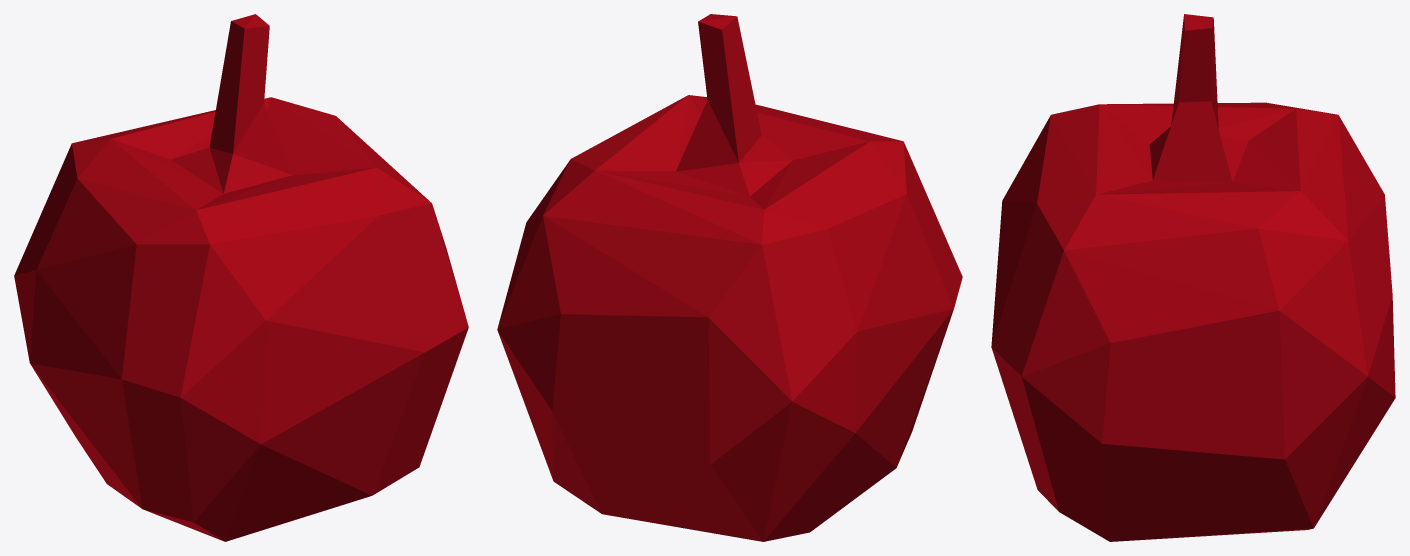
The model's file is Apple.fbx.
3 renders of one model, left to right at view 1: azimuth 30°, elevation 25°; view 2: azimuth 150°, elevation 25°; view 3: azimuth 270°, elevation 25°, orthographic. The views are drawn at different scales.
Visible parts, largest first — view 1: Cube.002; view 2: Cube.002; view 3: Cube.002.
Part boxes in pixels (x1,y1,x2,y2): Cube.002: (14,14,468,541); Cube.002: (497,14,962,541); Cube.002: (991,14,1395,541).
Size of the model in its own units: 340 by 447 by 340.
